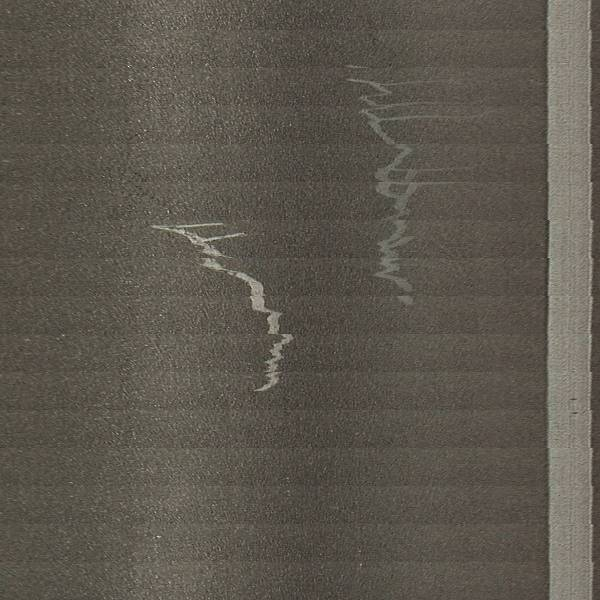road_damage: (148, 217, 299, 400), (342, 60, 429, 313)
